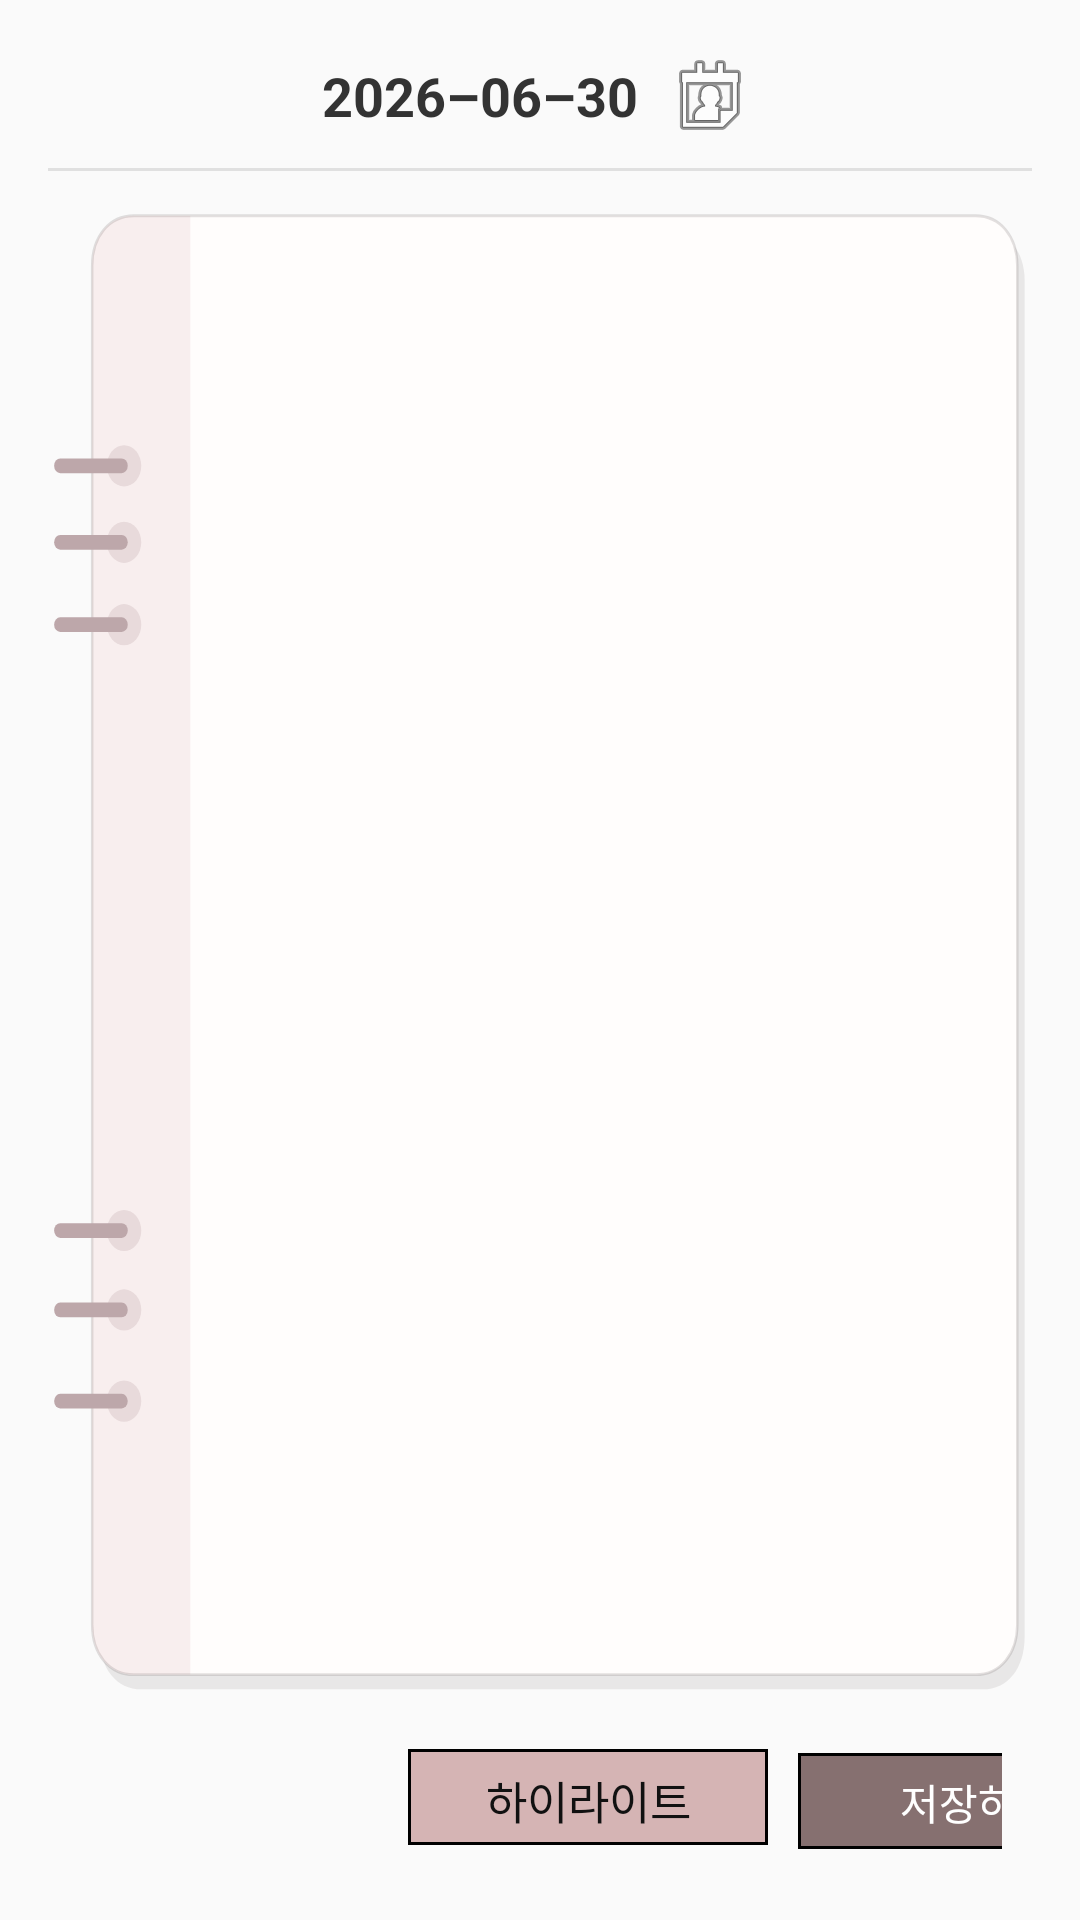

Icons on this 1080 × 1920 Android screen, each with its box as (x1, y1, x2, y2):
날짜 선택: (679, 60, 741, 130)
